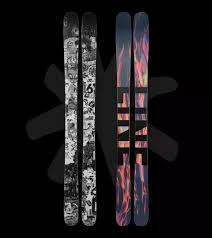skis: (58, 11, 98, 228), (113, 12, 150, 224)
